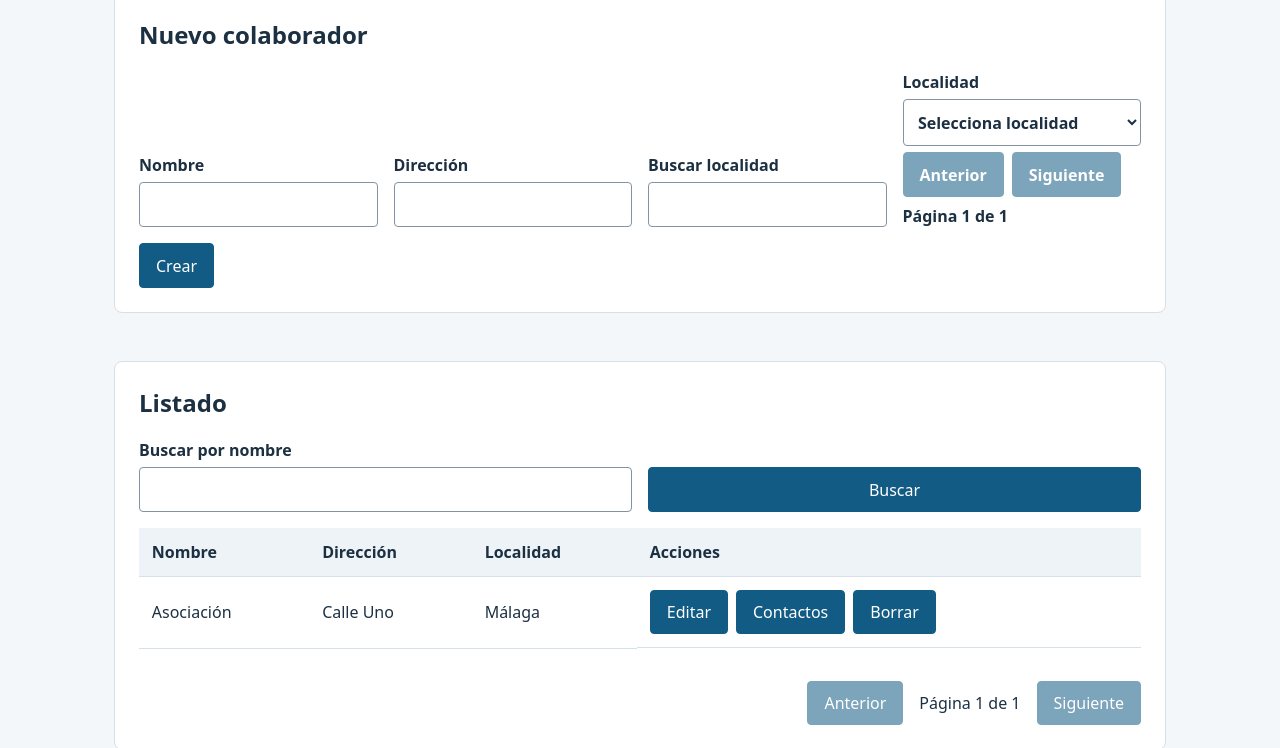
Test: colaboradores y contactos › muestra los contactos del colaborador seleccionado
Expected: the text "Asociación" is shown, [139,576,309,648]
Click the button "Contactos": (791, 612) [736,590,845,634]
(page scrolled)
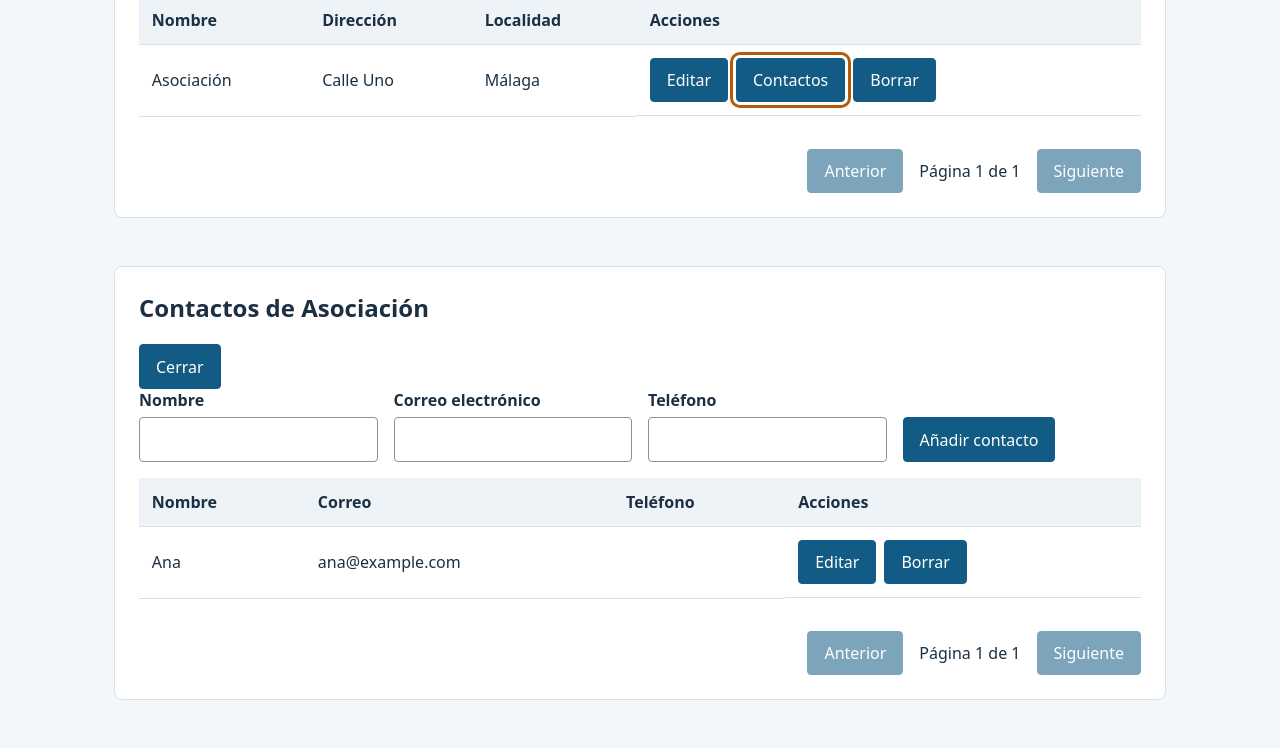
Expected: the heading "Contactos de Asociación" is shown, [139,291,429,324]
Expected: the text "ana@example.com" is shown, [305,526,613,598]
Click the button "Cerrar": (180, 367) [139,344,221,389]
(page scrolled)
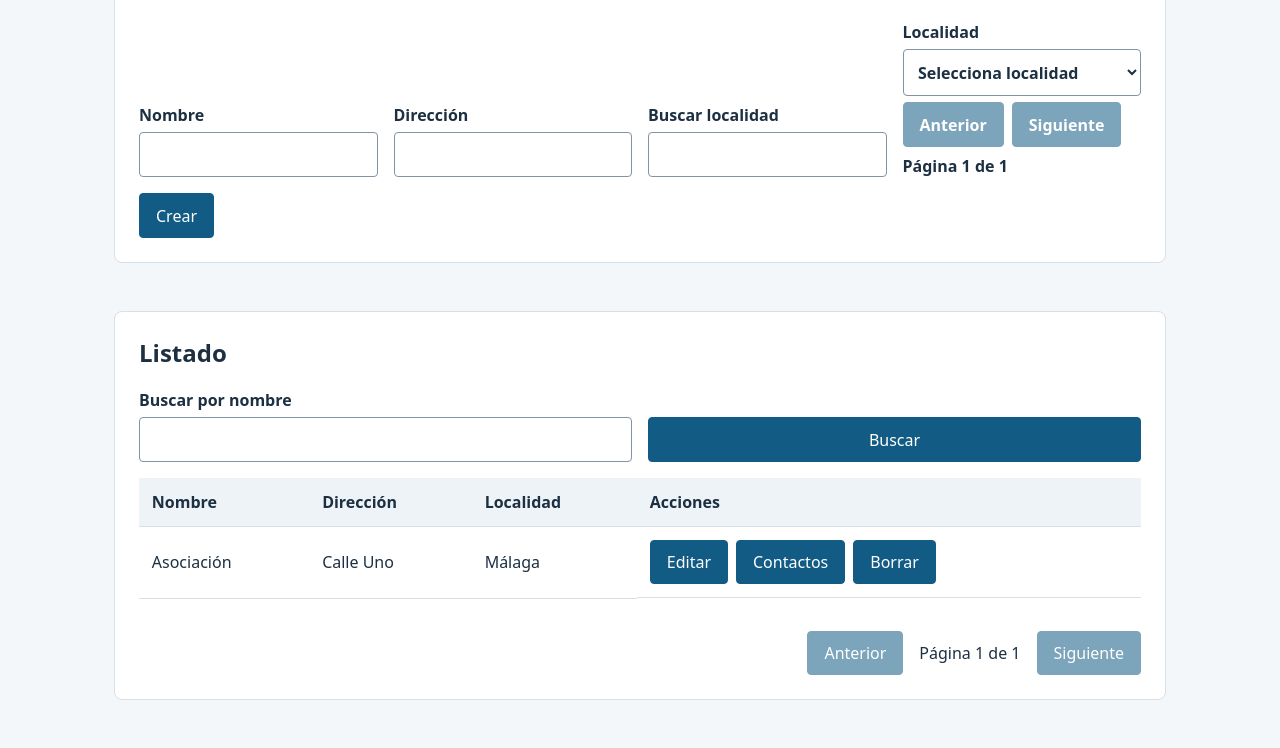
Expected: the heading "Contactos de Asociación" is gone
